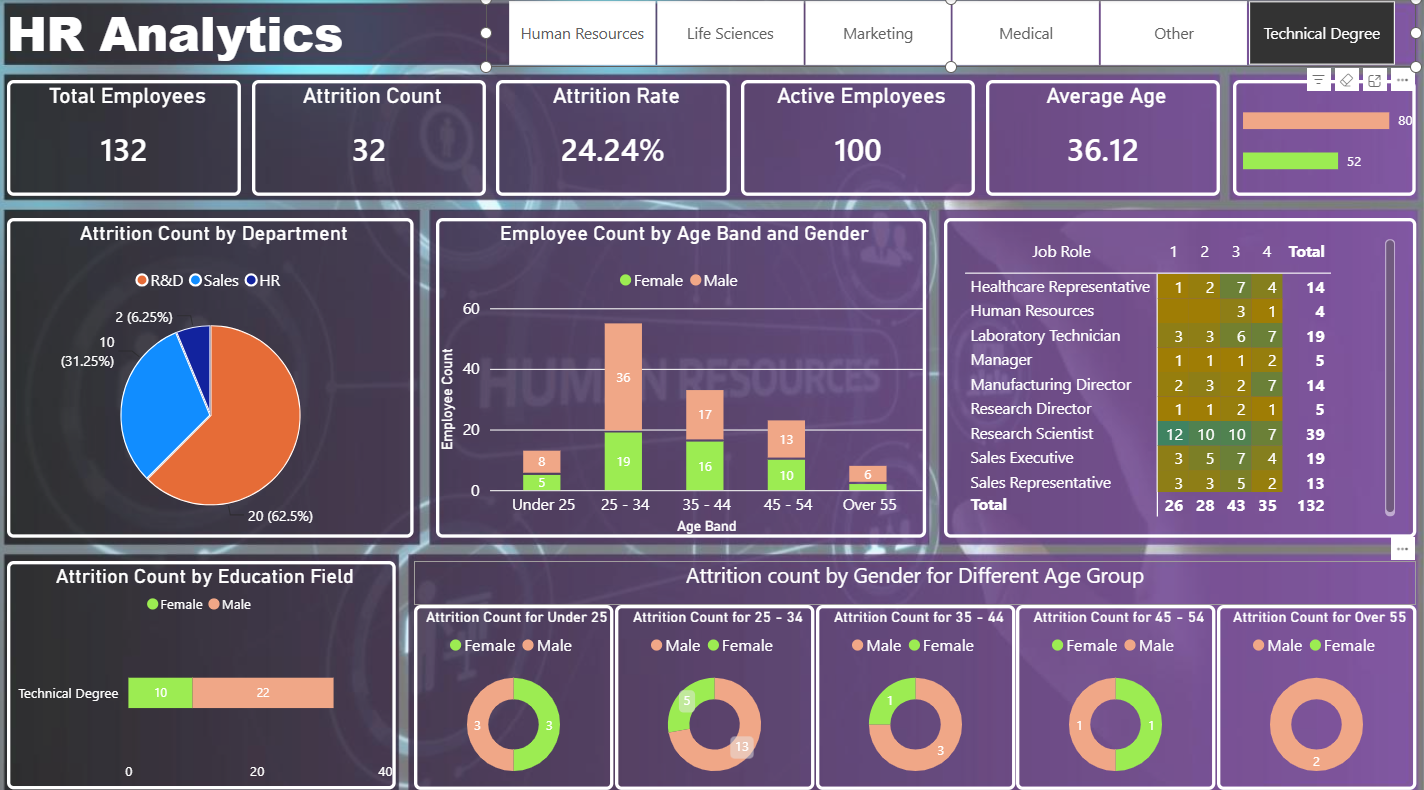

The page's visual inventory and layout, read from the dashboard file:
{"tool":"powerbi","page":{"name":"Page 1","canvas":[1280,720],"ordinal":0},"visuals":[{"type":"textbox","box":[7.2,0,430,61],"z":0},{"type":"card","title":"Total Employees","fields":{"Values":["Key Measures.Total Employees"]},"box":[7.2,72.7,210,104],"z":1000},{"type":"card","title":"Attrition Count","fields":{"Values":["Key Measures.Attrition Count"]},"box":[226.9,72.7,210,104],"z":2000},{"type":"card","title":"Attrition Rate","fields":{"Values":["Key Measures.Attrition Rate"]},"box":[446.6,72.7,210,104],"z":3000},{"type":"card","title":"Active Employees","fields":{"Values":["Key Measures.Active Employees"]},"box":[666.4,72.7,210,104],"z":4000},{"type":"card","title":"Average Age","fields":{"Values":["Avg(HR Data.Age)"]},"box":[886.1,72.7,210,104],"z":5000},{"type":"clusteredBarChart","fields":{"Category":["HR Data.Gender"],"Y":["Key Measures.Total Employees"]},"box":[1107.8,72.7,164.3,104.1],"z":6000},{"type":"pieChart","fields":{"Category":["HR Data.Department"],"Y":["Key Measures.Attrition Count"]},"box":[7.2,196.6,365.4,287.3],"z":7000},{"type":"columnChart","fields":{"Category":["HR Data.CF_age band"],"Series":["HR Data.Gender"],"Y":["Key Measures.Total Employees"]},"box":[392.3,196.6,439.9,287.3],"z":8000},{"type":"pivotTable","fields":{"Columns":["HR Data.Job Satisfaction"],"Rows":["HR Data.Job Role"],"Values":["Key Measures.Total Employees"]},"box":[848.4,196.6,423.7,287.3],"z":9000},{"type":"barChart","title":"Attrition Count by Education Field","fields":{"Category":["HR Data.Education Field"],"Series":["HR Data.Gender"],"Y":["Key Measures.Attrition Count"]},"box":[7.2,504.5,349.2,204.7],"z":10000},{"type":"donutChart","title":"Attrition Count for Under 25","fields":{"Category":["HR Data.Gender"],"Y":["Key Measures.Attrition Count"]},"box":[372.6,544,178.7,166.1],"z":11000},{"type":"textbox","box":[372.6,504.5,899.6,39.5],"z":12000},{"type":"donutChart","title":"Attrition Count for 25 - 34","fields":{"Category":["HR Data.Gender"],"Y":["Key Measures.Attrition Count"]},"box":[552.8,544,178.7,166.1],"z":12001},{"type":"donutChart","title":"Attrition Count for 35 - 44","fields":{"Category":["HR Data.Gender"],"Y":["Key Measures.Attrition Count"]},"box":[733,544,178.7,166.1],"z":12002},{"type":"donutChart","title":"Attrition Count for 45 - 54","fields":{"Category":["HR Data.Gender"],"Y":["Key Measures.Attrition Count"]},"box":[913.2,544,178.7,166.1],"z":12003},{"type":"donutChart","title":"Attrition Count for Over 55","fields":{"Category":["HR Data.Gender"],"Y":["Key Measures.Attrition Count"]},"box":[1093.5,544,178.7,166.1],"z":12004},{"type":"slicer","fields":{"Values":["HR Data.Education Field"]},"box":[437.2,0,834.9,61],"z":12005}]}

Visuals, with their boxes in screenshot pixels (x1, y1, x2, y2), scaled from the page's 1280x720 canvas onto the 1424x790 screenshot:
textbox: 8 0 486 67
"Total Employees" card: 8 80 242 194
"Attrition Count" card: 252 80 486 194
"Attrition Rate" card: 497 80 730 194
"Active Employees" card: 741 80 975 194
"Average Age" card: 986 80 1219 194
clusteredBarChart - HR Data.Gender x Key Measures.Total Employees: 1232 80 1415 194
pieChart - HR Data.Department x Key Measures.Attrition Count: 8 216 415 531
columnChart - HR Data.CF_age band x HR Data.Gender: 436 216 926 531
pivotTable - HR Data.Job Satisfaction x HR Data.Job Role: 944 216 1415 531
"Attrition Count by Education Field" barChart: 8 554 396 778
"Attrition Count for Under 25" donutChart: 415 597 613 779
textbox: 415 554 1415 597
"Attrition Count for 25 - 34" donutChart: 615 597 814 779
"Attrition Count for 35 - 44" donutChart: 815 597 1014 779
"Attrition Count for 45 - 54" donutChart: 1016 597 1215 779
"Attrition Count for Over 55" donutChart: 1217 597 1415 779
slicer - HR Data.Education Field: 486 0 1415 67
